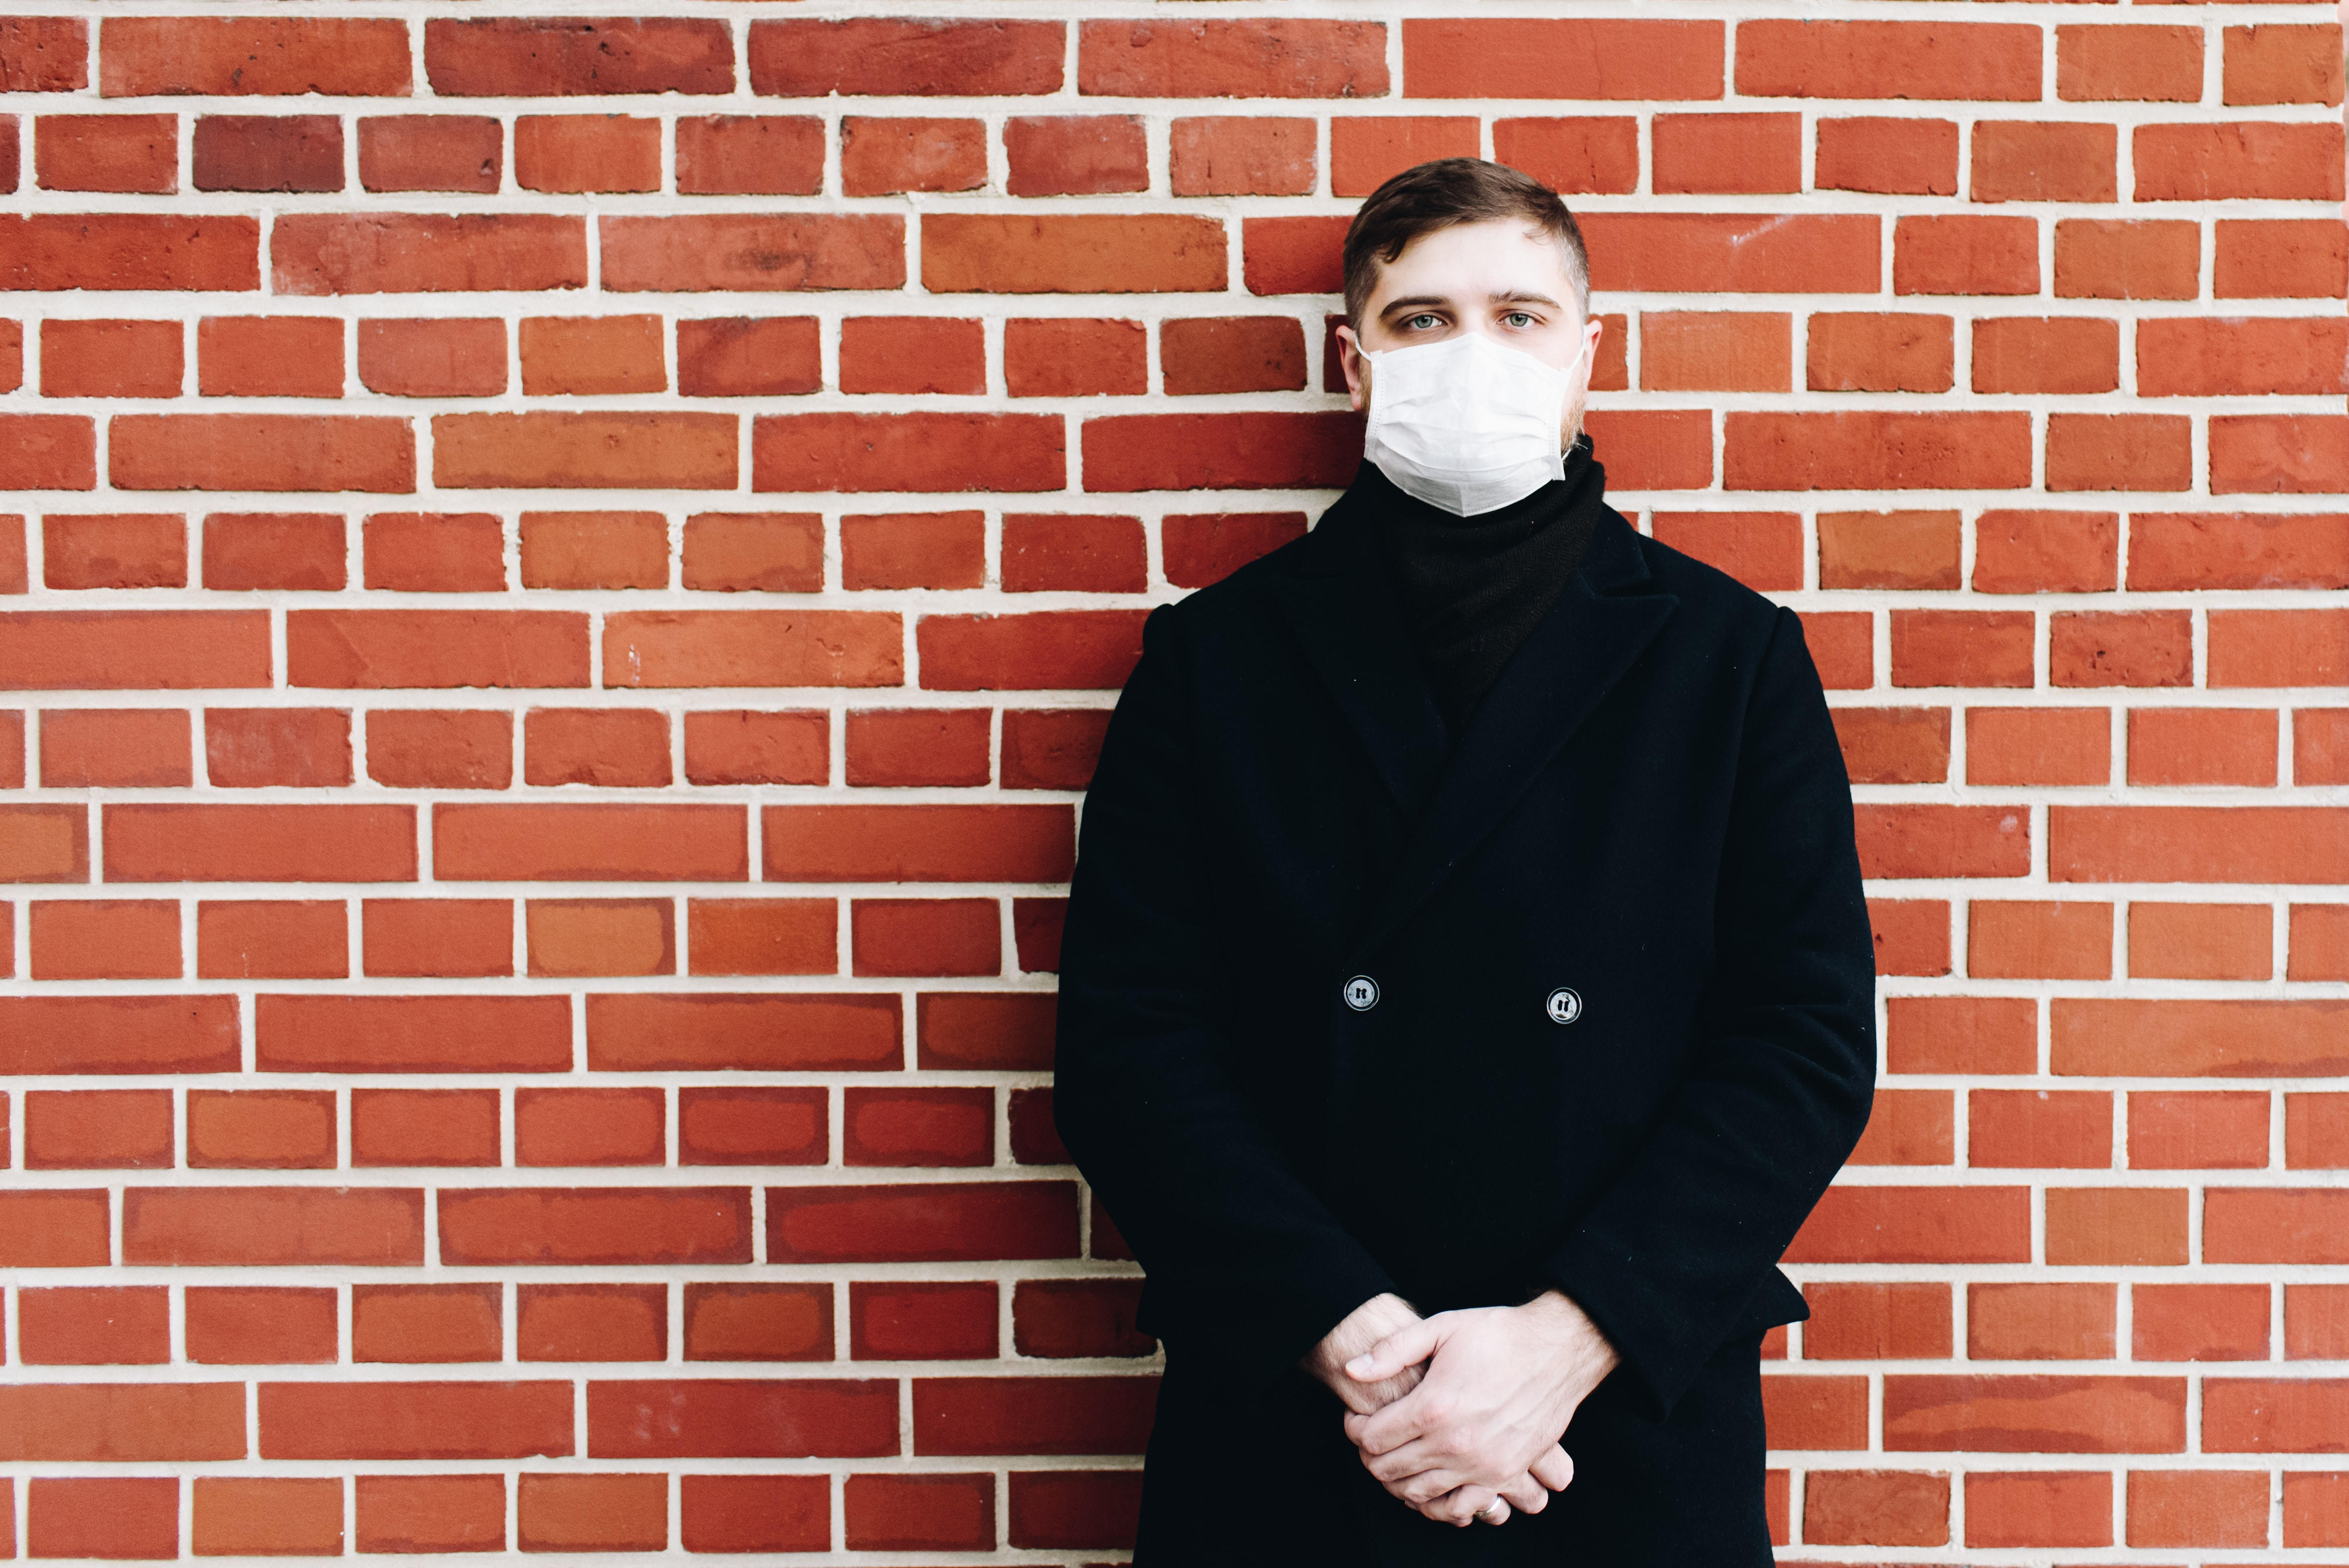mask: (1322, 343, 1607, 531)
person: (1059, 89, 1880, 1553)
